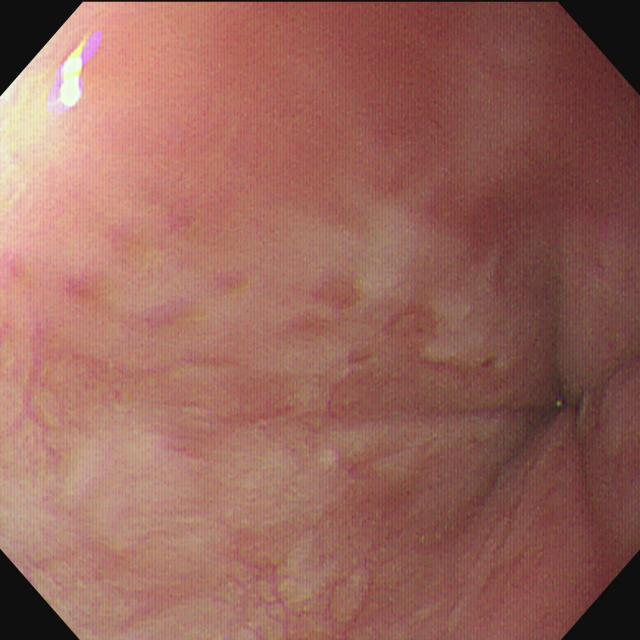J: (62, 405, 528, 605), (59, 202, 528, 389)
U: (55, 36, 96, 112)
